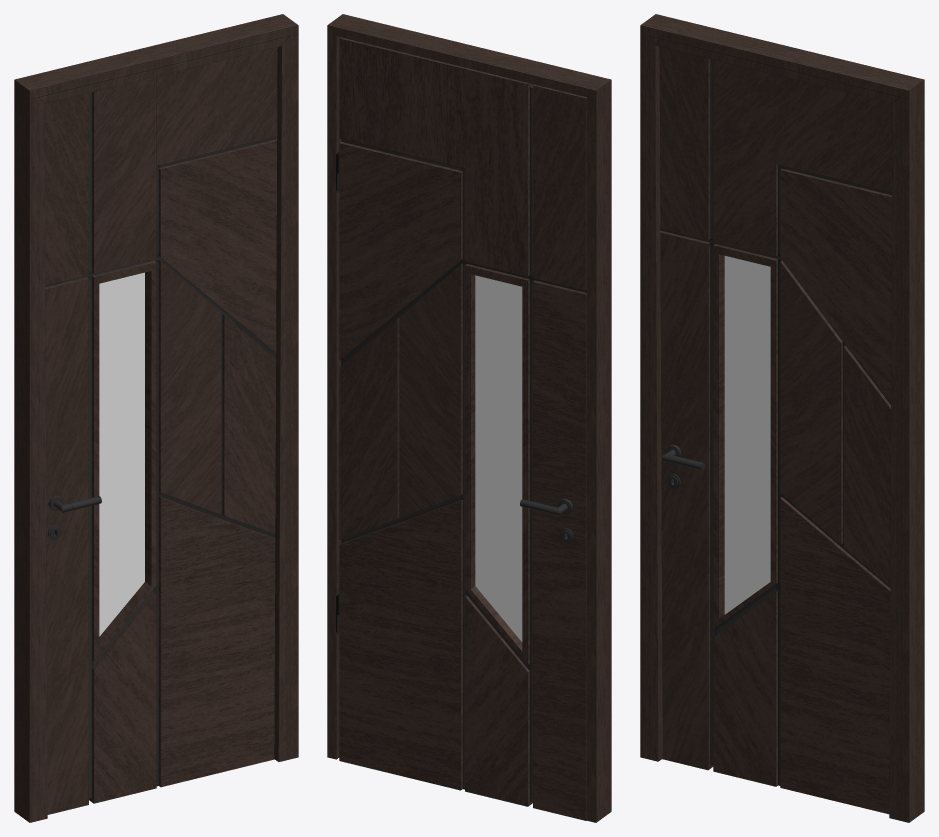
The model's file is door2-transformed.glb.
3 renders of one model, left to right at view 1: azimuth 30°, elevation 25°; view 2: azimuth 150°, elevation 25°; view 3: azimuth 330°, elevation 25°, orthographic.
Visible parts, largest first — view 1: Door 2.002, Door frame 2, Door 2.001, Door knob 2 front; view 2: Door 2.002, Door frame 2, Door 2.001, Door knob 2 back; view 3: Door 2.002, Door frame 2, Door 2.001, Door knob 2 front.
Boxes of the visible parts, bbox=[...] form: Door 2.002: bbox=[44, 47, 277, 814]; Door frame 2: bbox=[14, 14, 298, 822]; Door 2.001: bbox=[99, 272, 144, 636]; Door knob 2 front: bbox=[48, 495, 101, 539]; Door 2.002: bbox=[339, 37, 586, 820]; Door frame 2: bbox=[327, 14, 611, 822]; Door 2.001: bbox=[475, 275, 522, 641]; Door knob 2 back: bbox=[520, 498, 573, 542]; Door 2.002: bbox=[659, 46, 892, 814]; Door frame 2: bbox=[640, 14, 924, 822]; Door 2.001: bbox=[724, 256, 770, 614]; Door knob 2 front: bbox=[661, 444, 705, 488].
Bounding box in the file's own units: 1.08 × 2.81 × 0.213.
3 materials, 1 textured.
